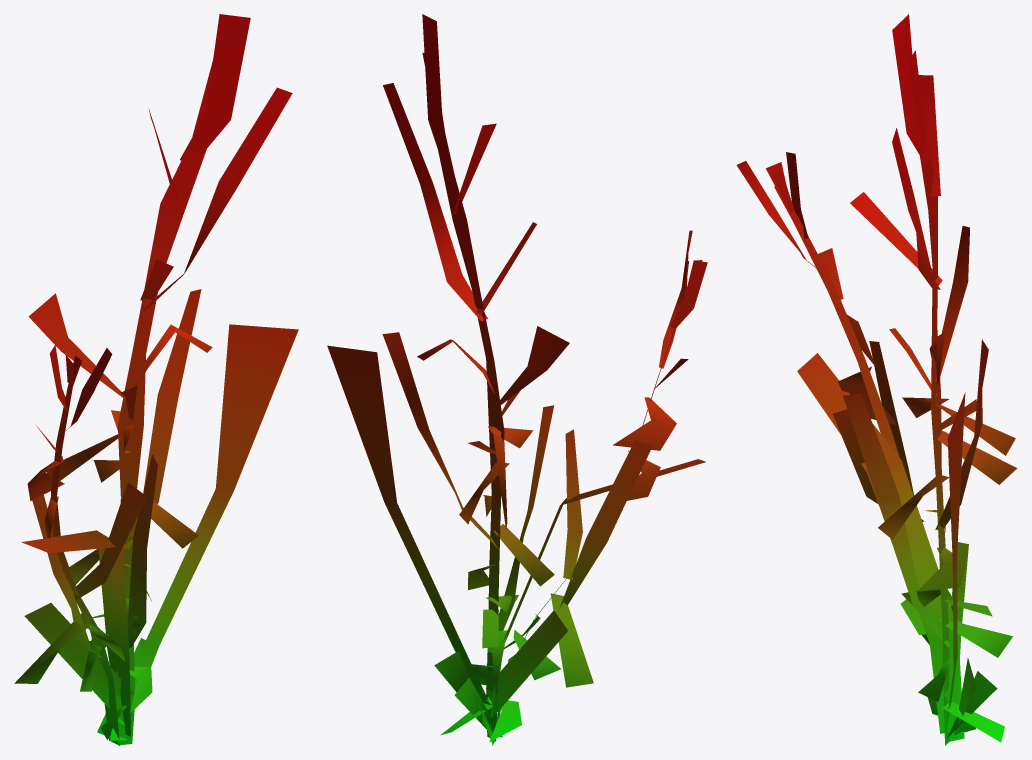
File: Var2_LOD3.fbx
The picture shows the model from 3 angles, left to right: view 1: azimuth 30°, elevation 25°; view 2: azimuth 150°, elevation 25°; view 3: azimuth 270°, elevation 25°; orthographic projection. The views are drawn at different scales.
Visible parts, largest first — view 1: _4e9b_Var2_LOD3; view 2: _4e9b_Var2_LOD3; view 3: _4e9b_Var2_LOD3.
Part boxes in pixels (bbox=[...]): _4e9b_Var2_LOD3: bbox=[14, 14, 298, 745]; _4e9b_Var2_LOD3: bbox=[327, 14, 707, 745]; _4e9b_Var2_LOD3: bbox=[736, 14, 1017, 745].
Size of the model in its own units: 43.33 by 88.67 by 29.37.
